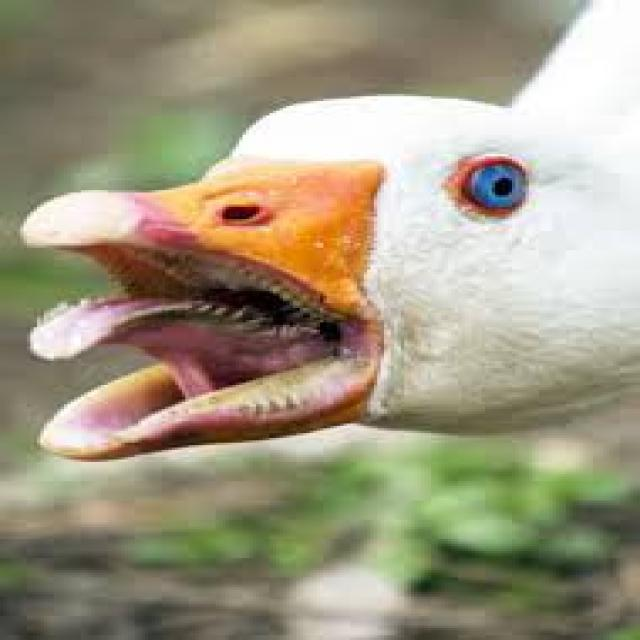Goose: (20, 40, 640, 495)
